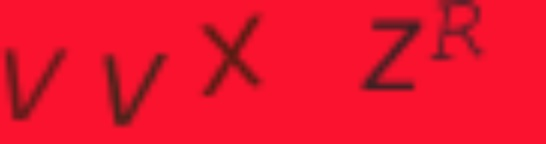R: (430, 1, 486, 62)
V: (98, 48, 172, 129), (1, 41, 71, 126)
X: (199, 11, 268, 97)
Z: (356, 15, 429, 94)
